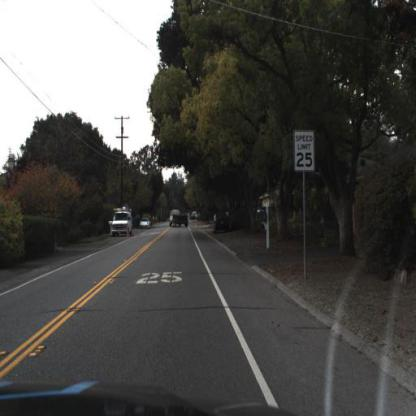car: (111, 208, 136, 238), (211, 208, 232, 234), (168, 207, 191, 230), (169, 205, 191, 229), (139, 217, 151, 231)
